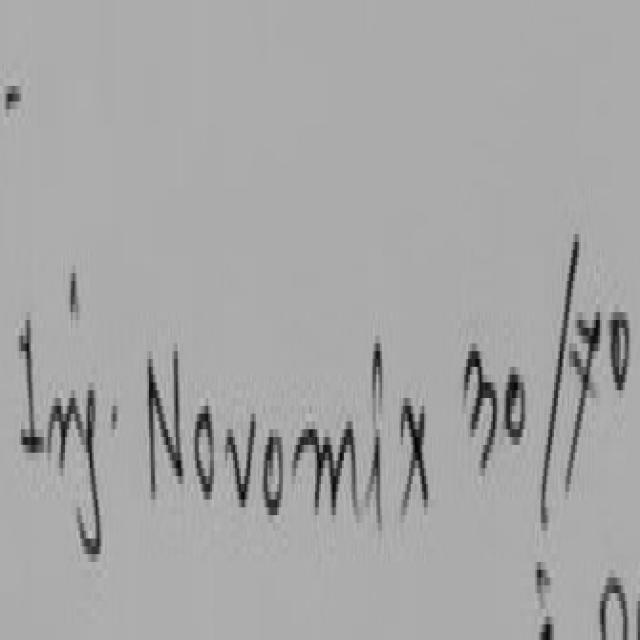0: (506, 371, 527, 446), (610, 312, 630, 386)
3: (467, 333, 499, 464)
7: (571, 312, 601, 488)
I: (20, 324, 44, 449)
N: (149, 351, 183, 496)
i: (367, 429, 382, 527), (373, 343, 384, 425)
j: (79, 390, 102, 560), (69, 265, 76, 316)
m: (294, 418, 359, 515)
n: (46, 387, 86, 475)
o: (264, 435, 285, 515), (195, 414, 212, 496)
v: (225, 414, 255, 522)
x: (402, 398, 430, 511)
